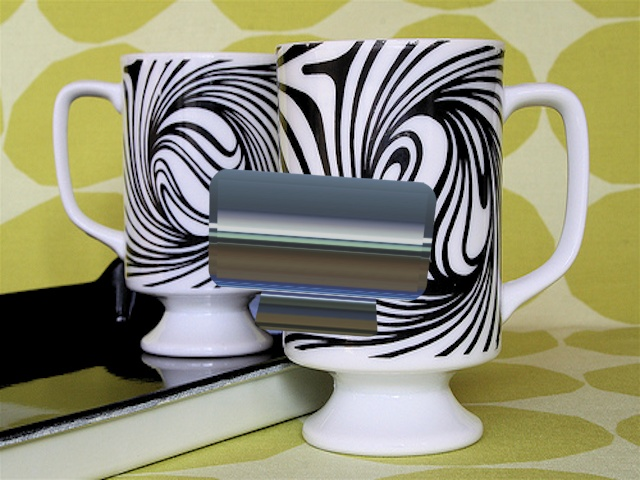monitor: (208, 160, 448, 352)
